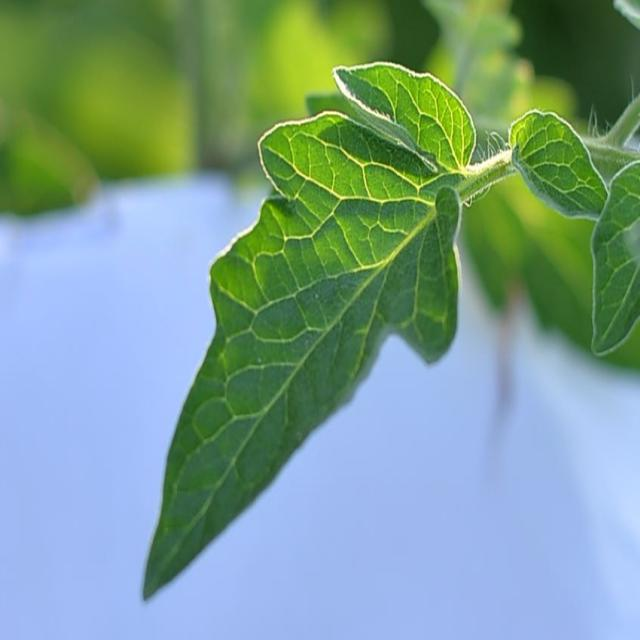healthy: (136, 50, 481, 606), (508, 105, 640, 358)
